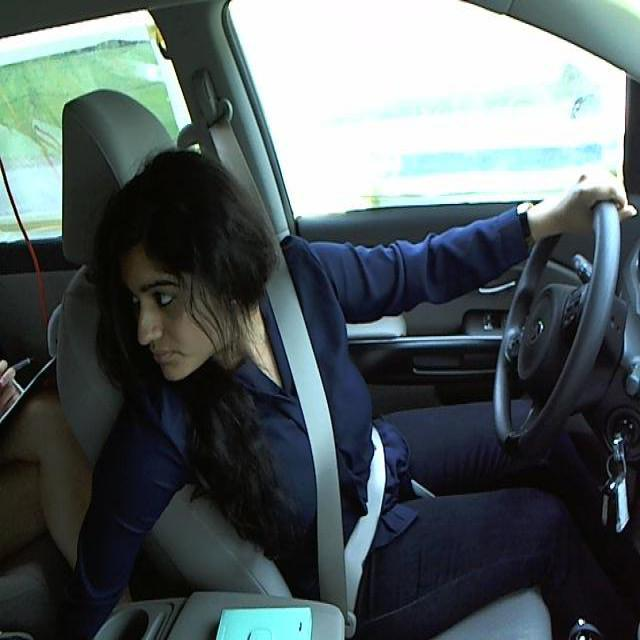seatbelt: (267, 269, 393, 591)
